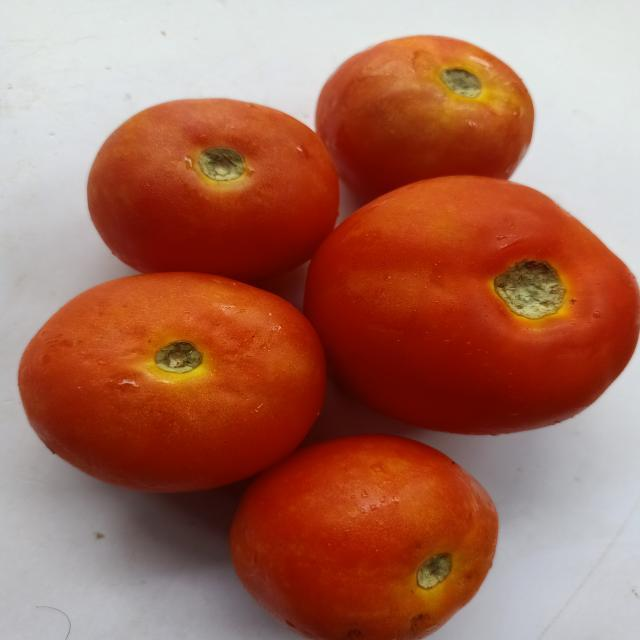Tomato: (297, 174, 640, 435), (2, 270, 338, 520), (219, 426, 505, 640), (77, 96, 345, 277), (314, 23, 548, 206)
